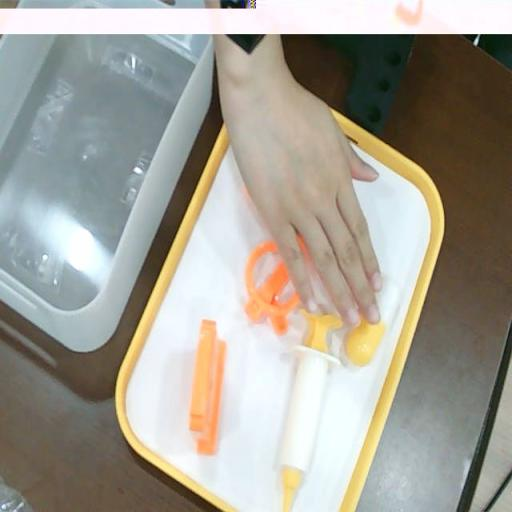hospital: (219, 76, 384, 320)
